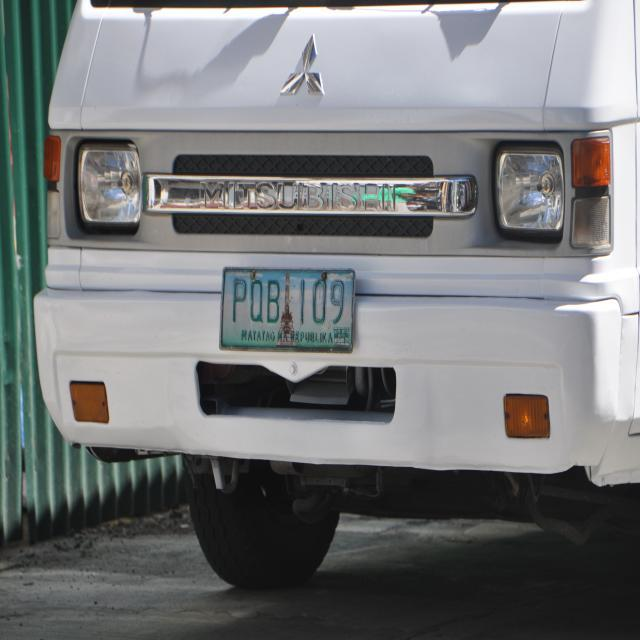LicensePlate: (207, 256, 371, 365)
